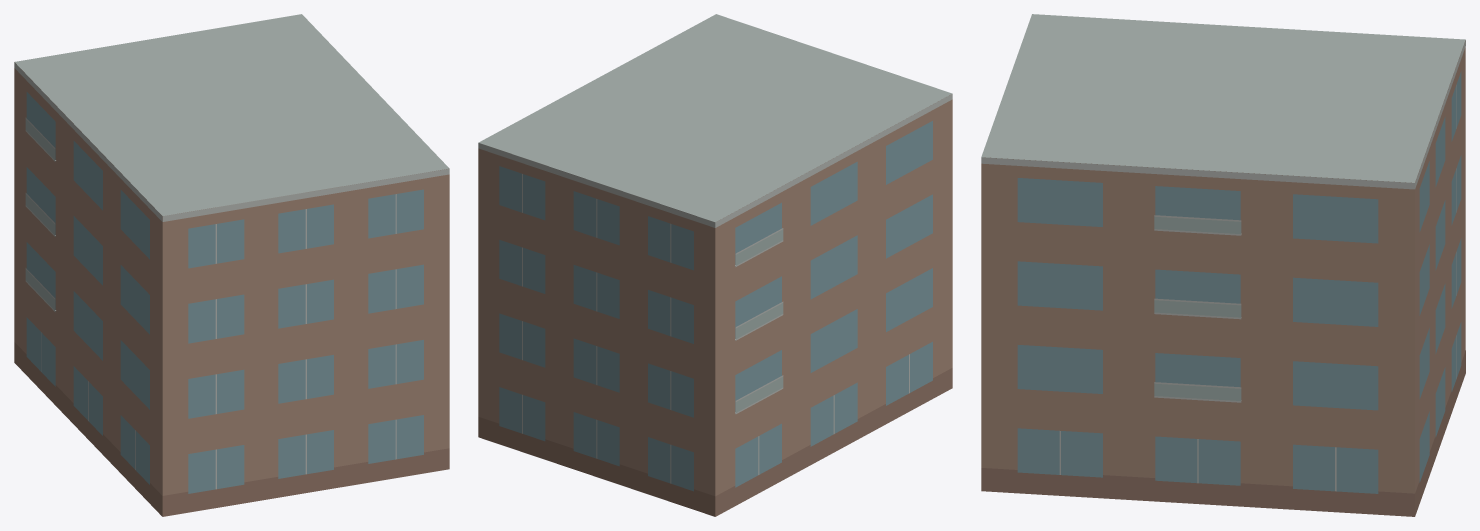
Rendered from survey-upis-32988415.glb.
3 views of the same model, side by side, from view 1: azimuth 30°, elevation 25°; view 2: azimuth 150°, elevation 25°; view 3: azimuth 270°, elevation 25° (orthographic). The views are drawn at different scales.
Parts seen in each view (by area): view 1: survey-upis-32988415.tmp; view 2: survey-upis-32988415.tmp; view 3: survey-upis-32988415.tmp.
Part boxes in pixels (x1=…): survey-upis-32988415.tmp: x1=14, y1=14, x2=449, y2=516; survey-upis-32988415.tmp: x1=478, y1=14, x2=952, y2=516; survey-upis-32988415.tmp: x1=981, y1=14, x2=1465, y2=516.
Bounding box in the file's own units: 13.57 × 12.5 × 16.45.
